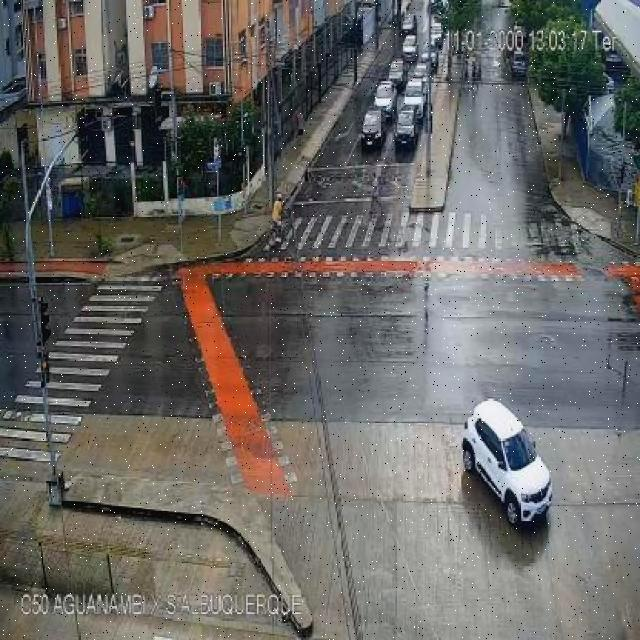Car: (460, 398, 557, 528), (393, 107, 420, 152), (402, 76, 427, 114), (360, 109, 383, 150), (376, 80, 397, 114), (510, 49, 526, 82), (409, 62, 431, 85), (391, 55, 407, 86), (401, 34, 417, 61), (424, 45, 439, 70)
